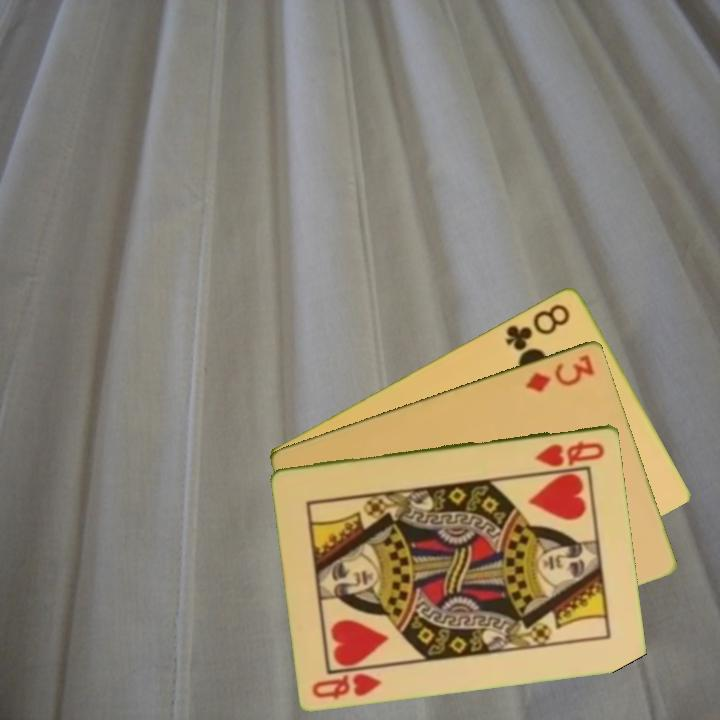3d: (522, 350, 598, 395)
8c: (502, 299, 574, 353)
Qh: (309, 663, 389, 702), (531, 437, 608, 469)
